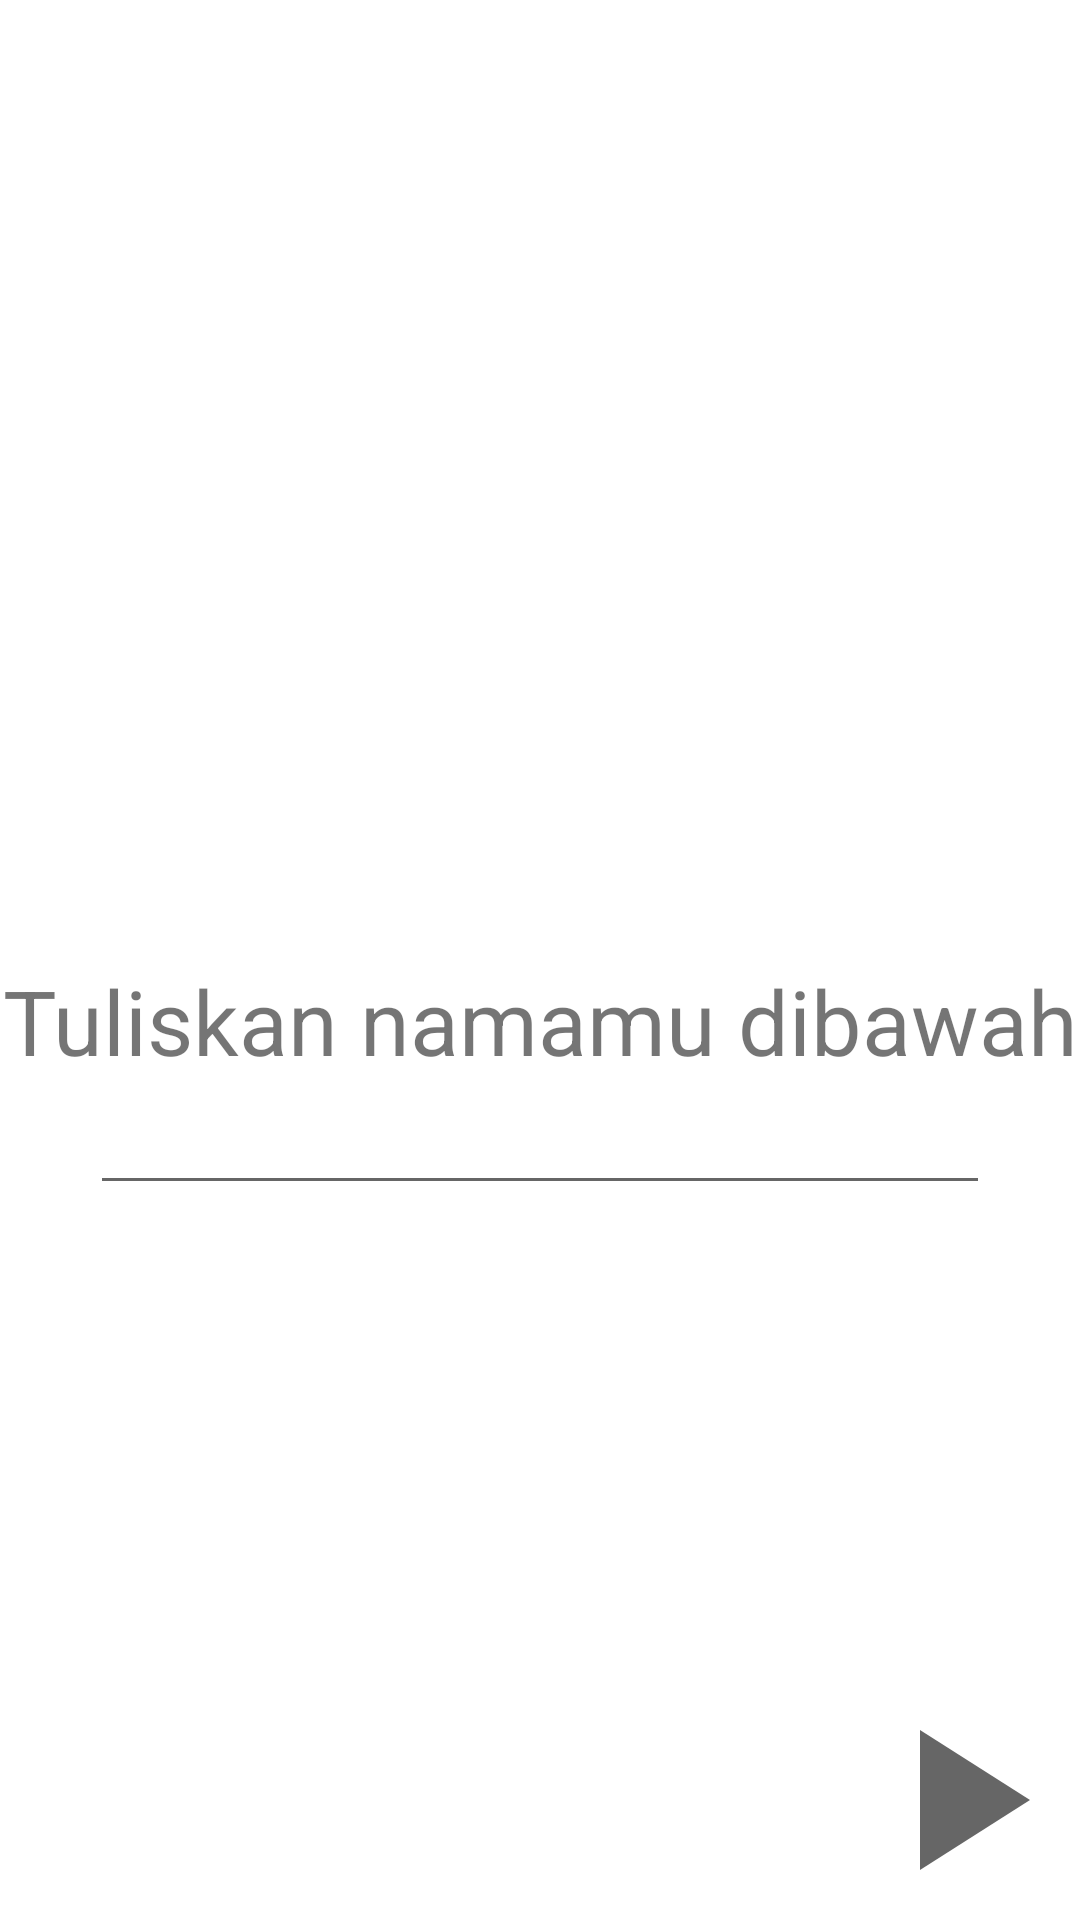

Screen size 1080*1920. Icon name, then its center in pixels as (x=x, y=y):
play arrow: (x=975, y=1800)
